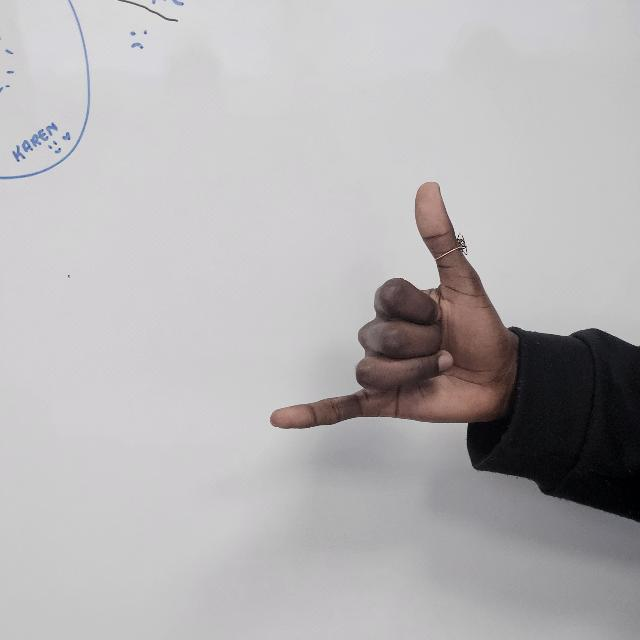Direita: (272, 179, 514, 457)
